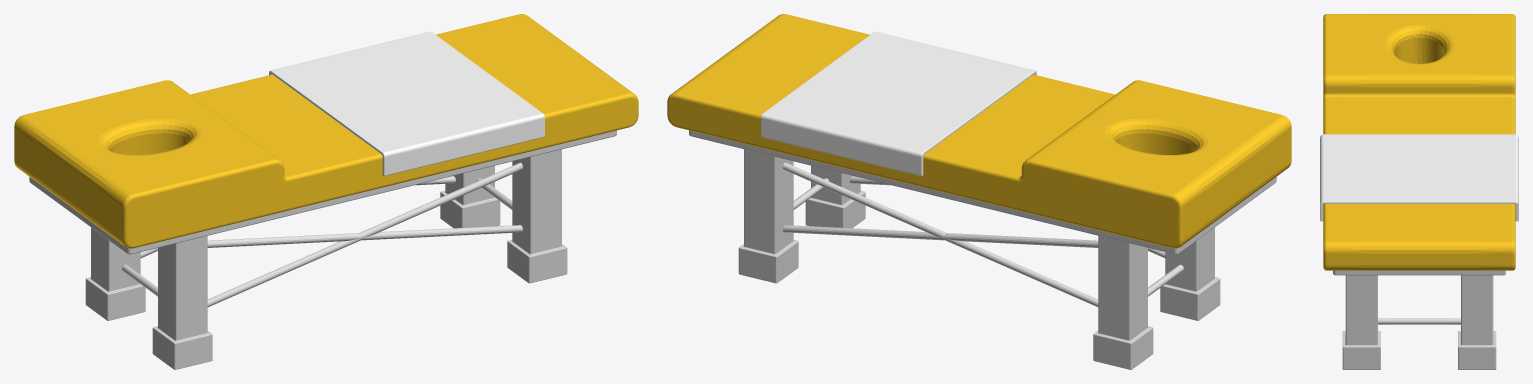
The model's file is BathBed.fbx.
3 views of the same model, side by side, from view 1: azimuth 30°, elevation 25°; view 2: azimuth 150°, elevation 25°; view 3: azimuth 270°, elevation 25° (orthographic). The views are drawn at different scales.
Parts seen in each view (by area): view 1: 개체_2, 개체_3, 개체_1; view 2: 개체_2, 개체_3, 개체_1; view 3: 개체_2, 개체_1, 개체_3.
Boxes of the visible parts, box(x1,y1,x2,y2) form: 개체_2: box(14, 14, 638, 248); 개체_3: box(29, 130, 616, 369); 개체_1: box(269, 31, 544, 176); 개체_2: box(667, 14, 1291, 248); 개체_3: box(689, 130, 1276, 369); 개체_1: box(761, 31, 1036, 176); 개체_2: box(1323, 14, 1515, 270); 개체_1: box(1320, 134, 1518, 221); 개체_3: box(1333, 270, 1505, 369).
Bounding box in the file's own units: 1600 × 580 × 620.
